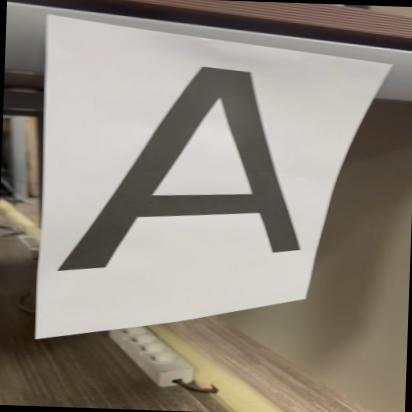seat: (56, 48, 325, 290)
